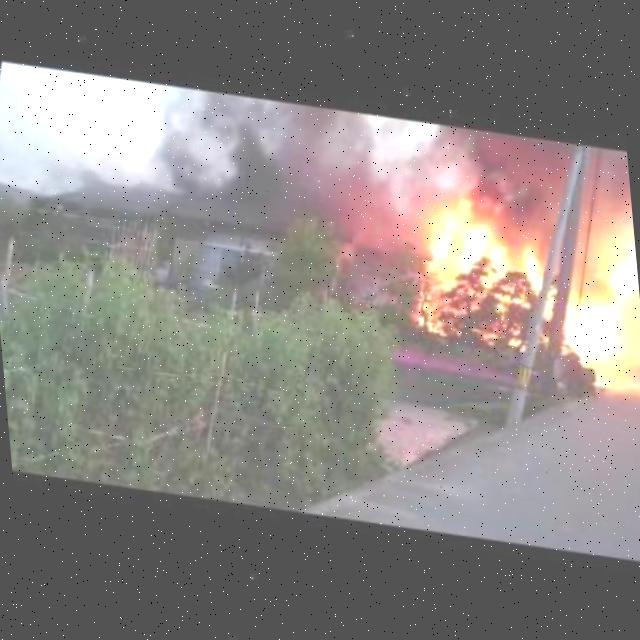fire: (400, 189, 555, 331), (539, 213, 640, 408), (407, 294, 449, 343), (534, 289, 557, 327), (498, 326, 526, 357), (465, 328, 499, 353)
